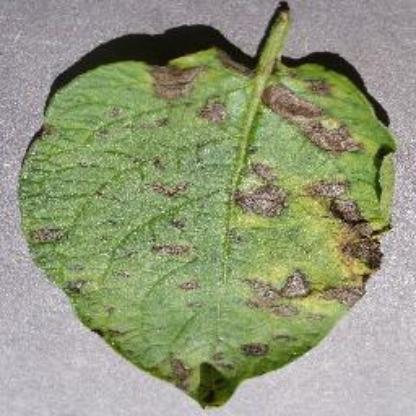Early-Blight: (14, 0, 408, 410)
